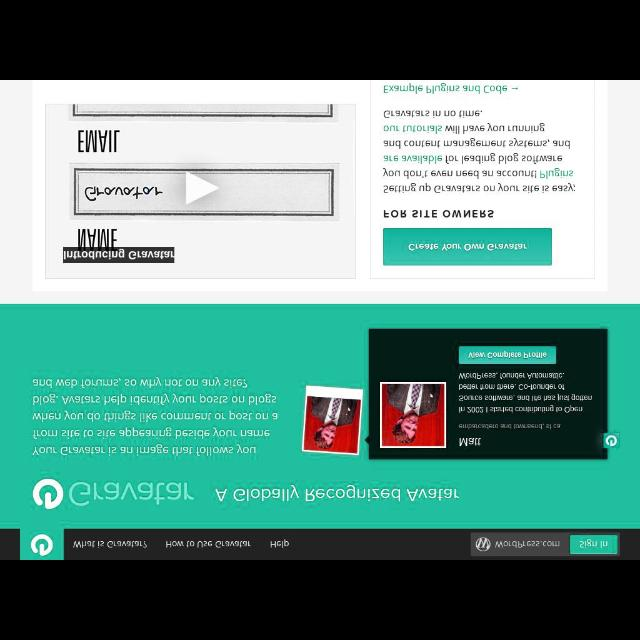icon: (512, 88, 518, 90)
iframe: (46, 105, 357, 279)
image: (33, 478, 195, 510), (380, 382, 446, 448), (302, 385, 364, 455), (31, 534, 53, 556), (602, 434, 620, 448), (476, 538, 490, 552)
multitab: (1, 528, 639, 560)
text: (32, 376, 278, 456), (384, 110, 576, 194), (460, 373, 592, 412), (215, 484, 459, 502), (384, 82, 508, 94), (409, 243, 527, 251), (384, 210, 494, 218), (166, 540, 252, 548), (468, 350, 546, 358), (459, 423, 561, 429), (73, 540, 147, 548), (494, 540, 560, 548), (580, 538, 608, 548), (459, 438, 481, 447), (271, 540, 289, 548)
textbutton: (382, 228, 552, 264), (459, 346, 555, 364), (570, 535, 618, 553)
